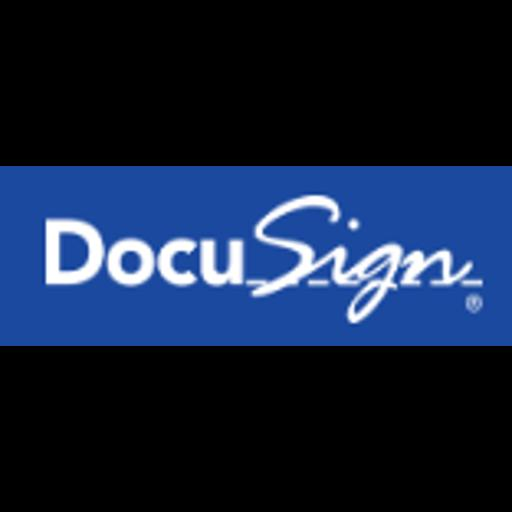DocuSign: (0, 166, 512, 346)
